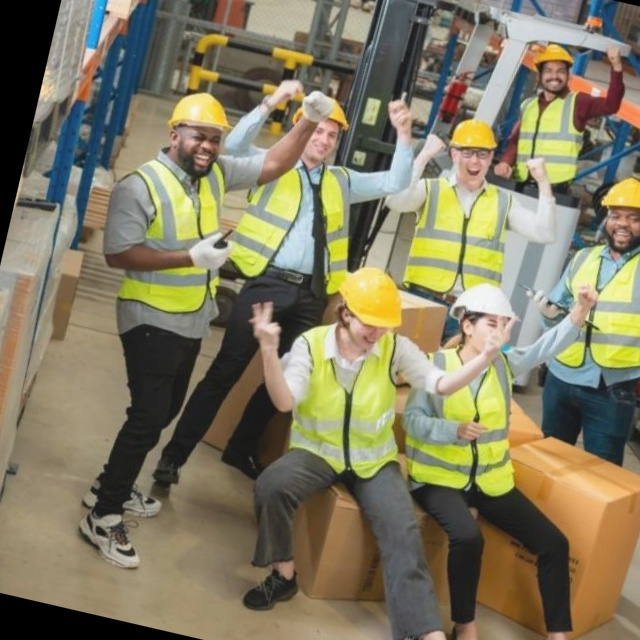Con_Chaleco: (97, 148, 239, 322), (397, 336, 531, 498), (398, 165, 524, 292), (543, 236, 640, 381)
